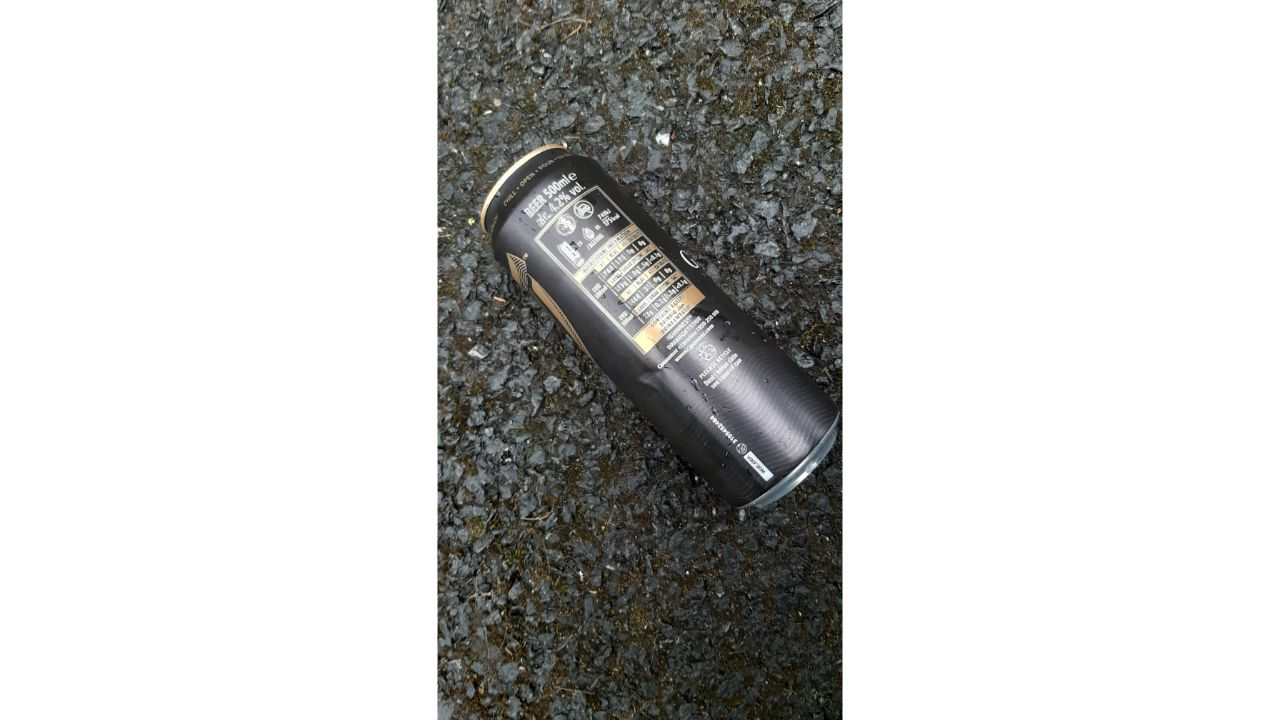Can: (475, 132, 848, 530)
